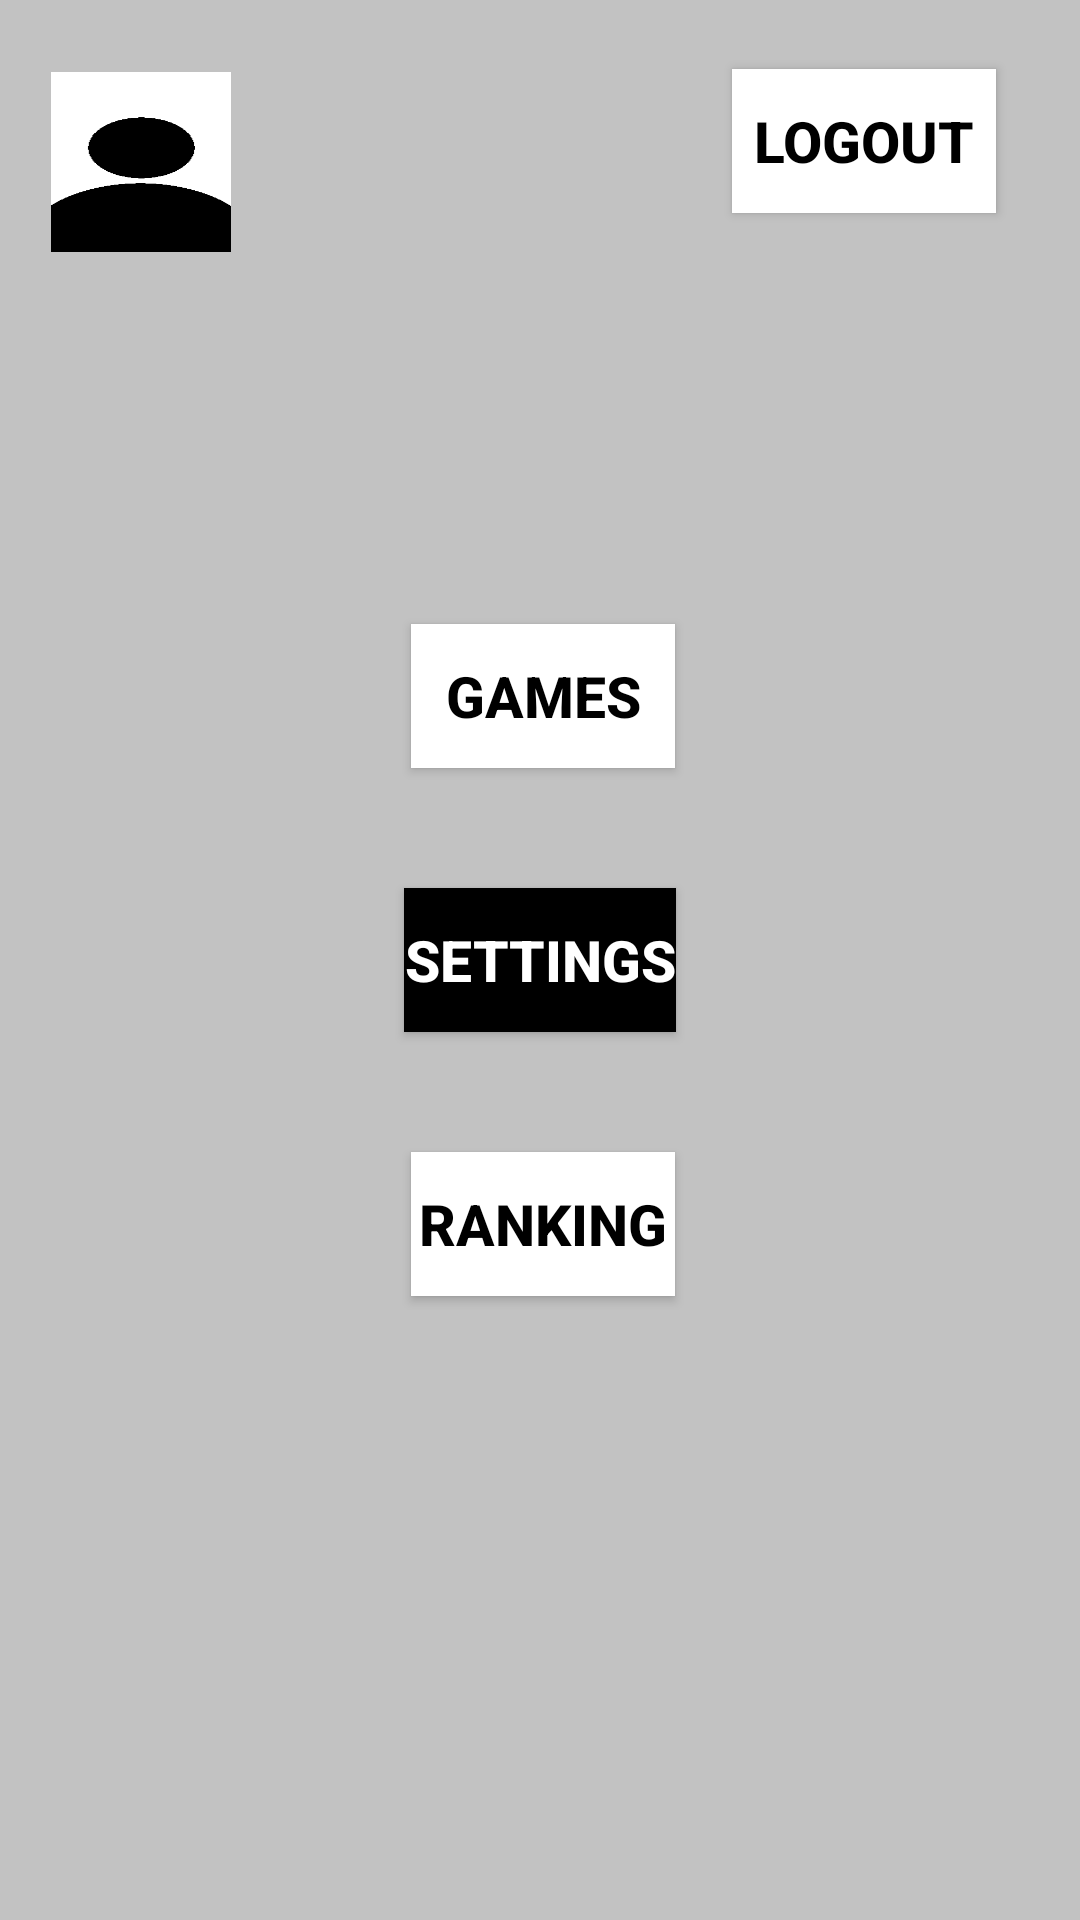

Where to tap for icons on this 1080*1920 app screen, as (x=x, y=y):
usuario: (x=141, y=162)
